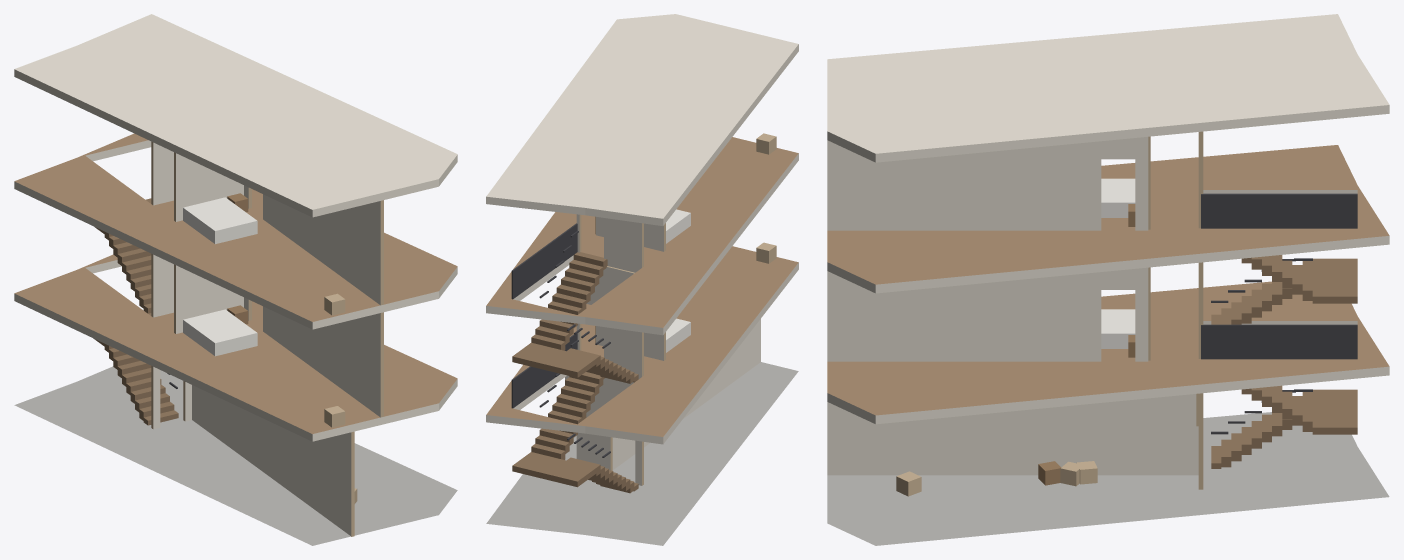
The model's file is interior.glb.
3 views of the same model, side by side, from view 1: azimuth 30°, elevation 25°; view 2: azimuth 150°, elevation 25°; view 3: azimuth 270°, elevation 25° (orthographic). The views are drawn at different scales.
Parts seen in each view (by area): view 1: slabs, partitions, stair, coarse-s1, coarse-s2; view 2: slabs, stair, partitions, coarse-s1, coarse-s2; view 3: slabs, partitions, stair, coarse-s0, coarse-s1, coarse-s2.
Part boxes in pixels (x1=…): slabs: x1=14, y1=14, x2=457, y2=545; partitions: x1=151, y1=141, x2=383, y2=536; stair: x1=93, y1=198, x2=178, y2=425; coarse-s1: x1=183, y1=305, x2=345, y2=427; coarse-s2: x1=183, y1=193, x2=345, y2=315; slabs: x1=486, y1=14, x2=798, y2=545; stair: x1=511, y1=223, x2=638, y2=493; partitions: x1=565, y1=214, x2=760, y2=485; coarse-s1: x1=666, y1=242, x2=776, y2=352; coarse-s2: x1=666, y1=133, x2=776, y2=243; slabs: x1=827, y1=14, x2=1389, y2=545; partitions: x1=827, y1=131, x2=1203, y2=489; stair: x1=1201, y1=193, x2=1357, y2=468; coarse-s0: x1=896, y1=461, x2=1097, y2=496; coarse-s1: x1=1101, y1=309, x2=1135, y2=357; coarse-s2: x1=1101, y1=178, x2=1135, y2=226.
Size of the model in its own units: 8.8 by 11.53 by 14.96.
